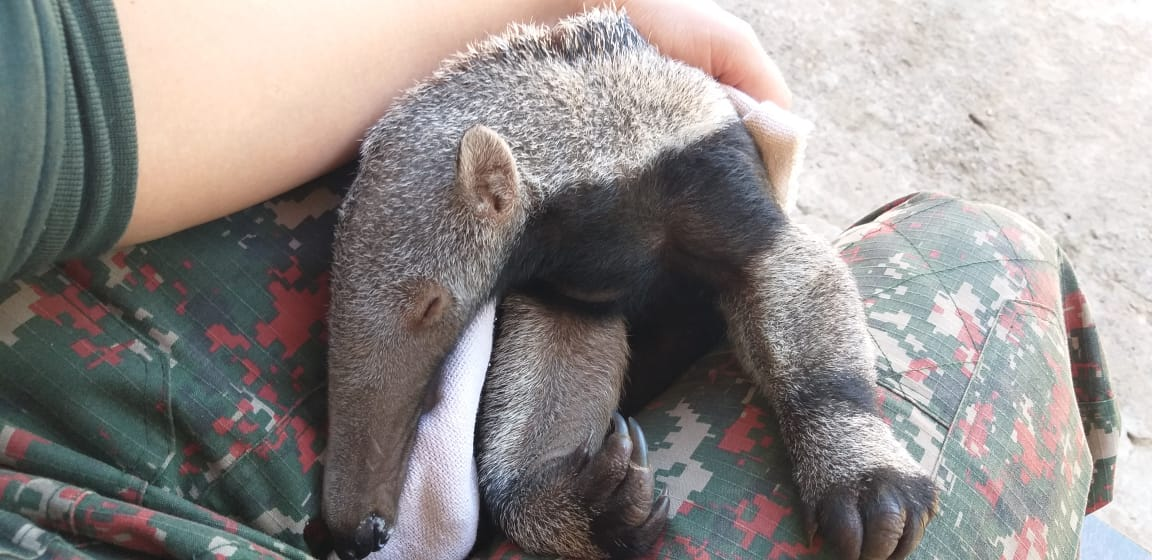TamanduaBandeira: (300, 9, 953, 556)
